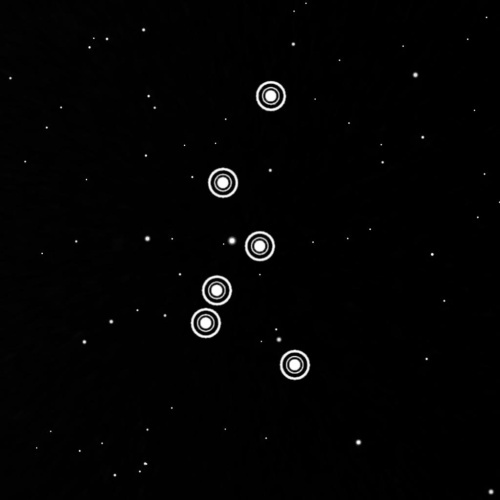cassiopeia: (183, 76, 314, 387)
